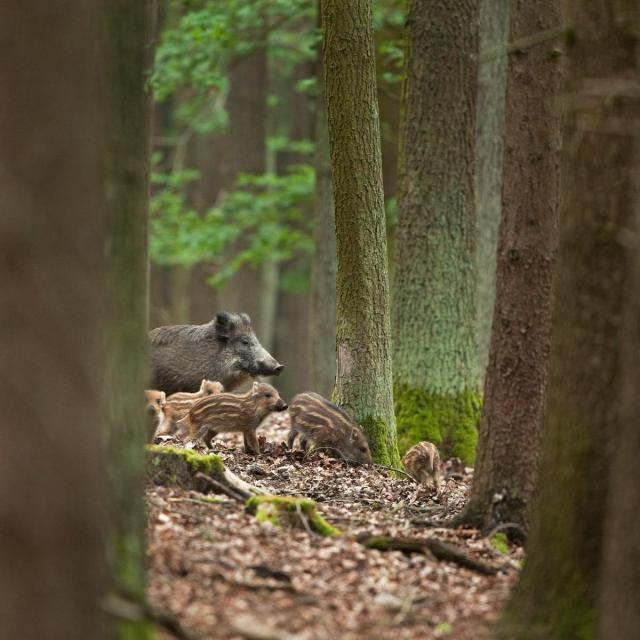Boar: (148, 309, 287, 389), (288, 389, 374, 469), (188, 383, 285, 450), (399, 440, 441, 490), (145, 390, 167, 442)
